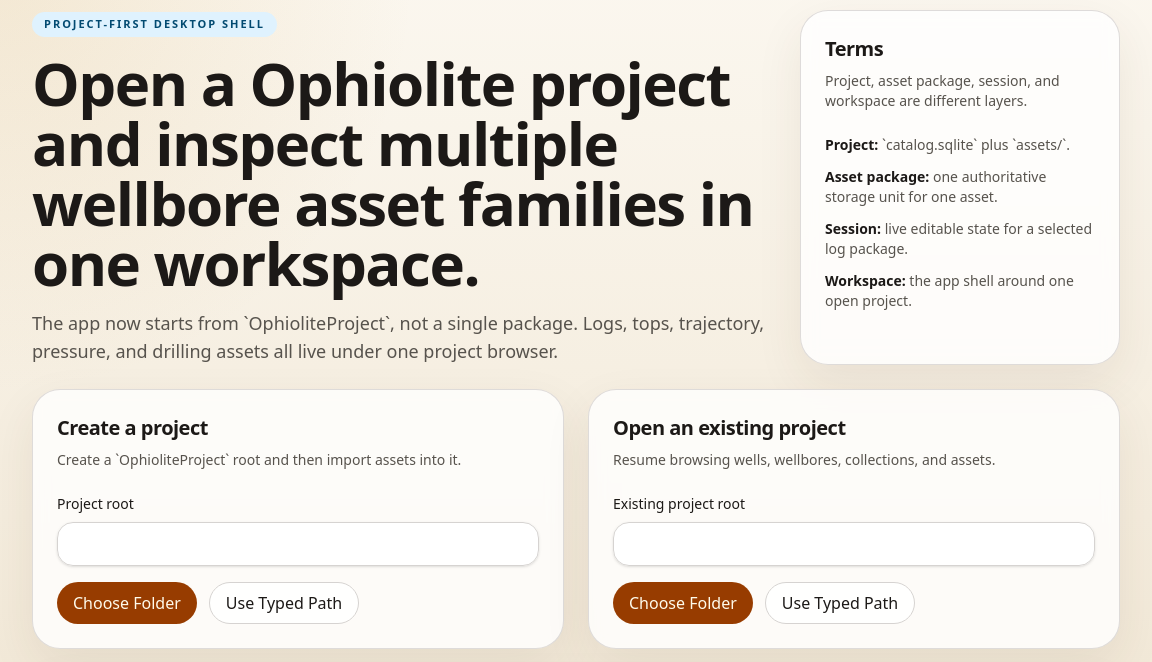
Test case: ophiolite project harness › runs a depth coverage query and opens a selected asset
Click the button with test id "open-project-button" at (683, 602), box x1=613 y1=582 x2=753 y2=624
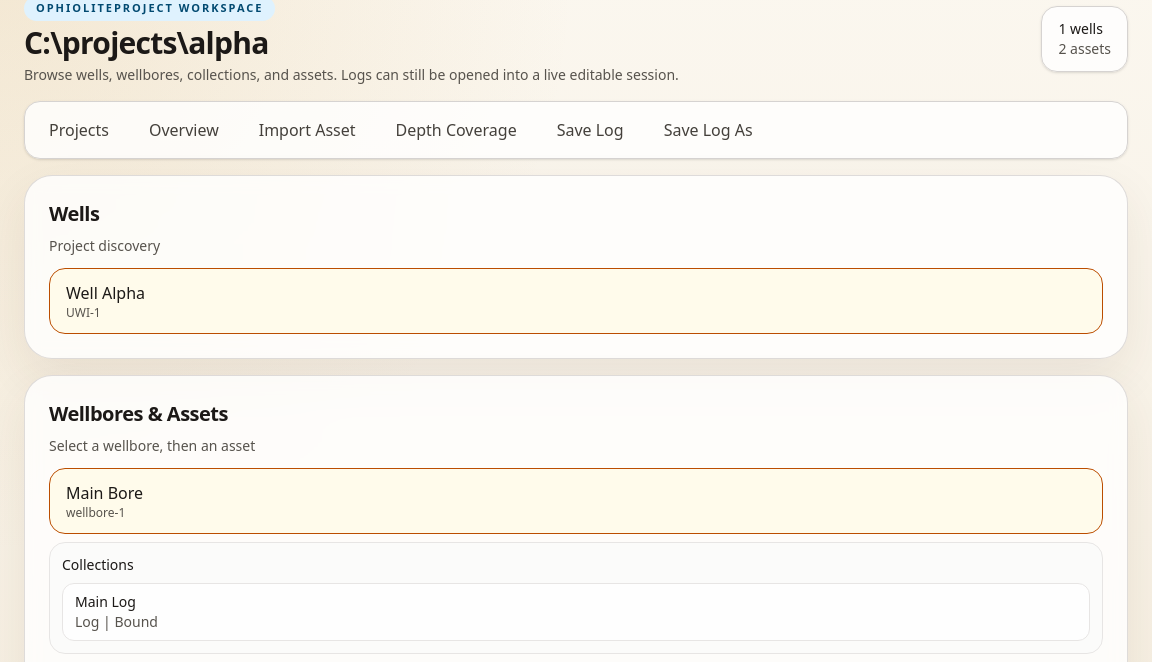
Expected: the text "Well Alpha" is shown, x1=66 y1=282 x2=145 y2=304
Click the button "Depth Coverage" at (456, 130), box x1=380 y1=110 x2=533 y2=150
(page scrolled)
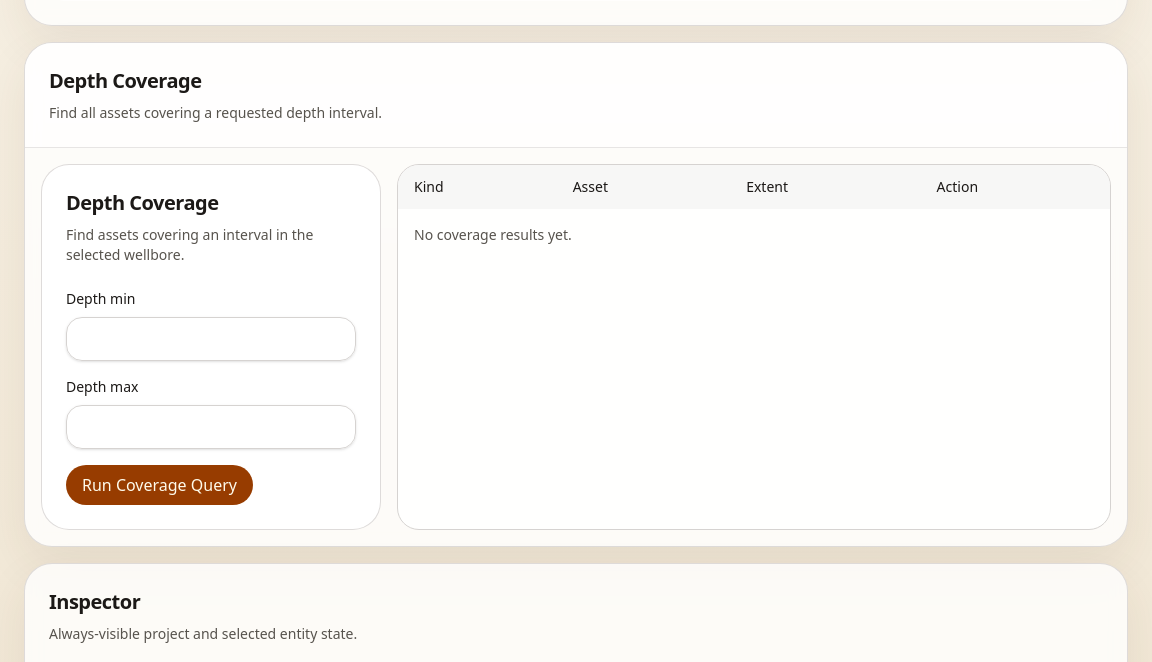
Type "1000" into the field named "coverage depth min" at (211, 338), box x1=66 y1=316 x2=356 y2=360
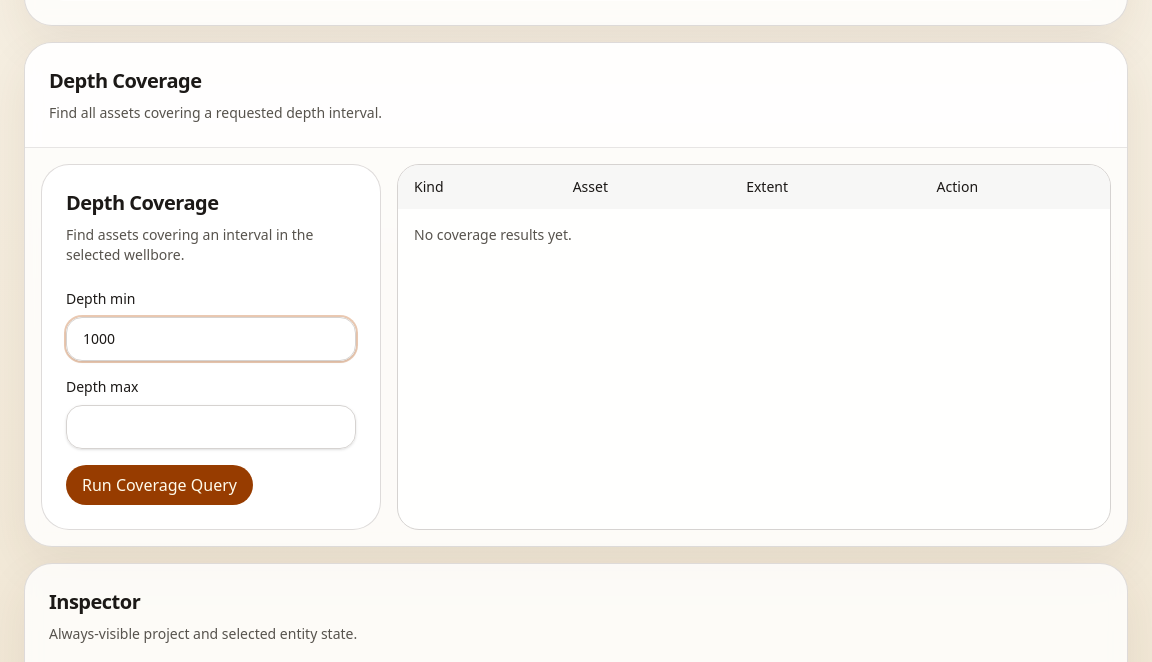
Type "1100" into the field named "coverage depth max" at (211, 426), box x1=66 y1=404 x2=356 y2=448
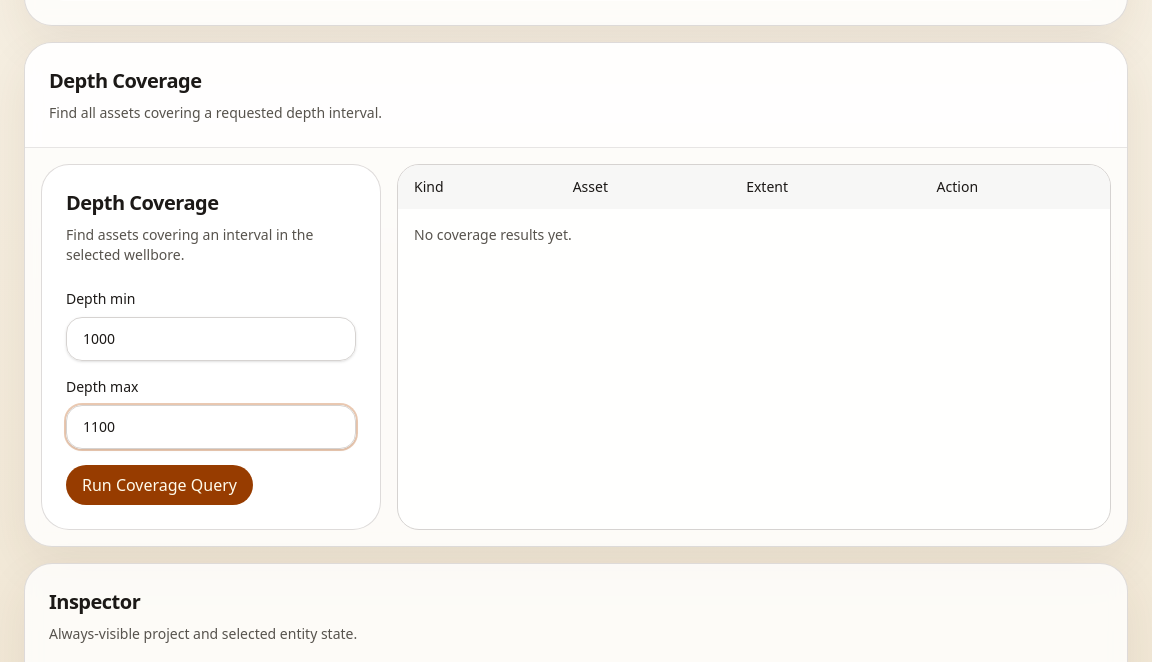
Click the button with test id "run-coverage-button" at (160, 484), box x1=66 y1=464 x2=253 y2=504
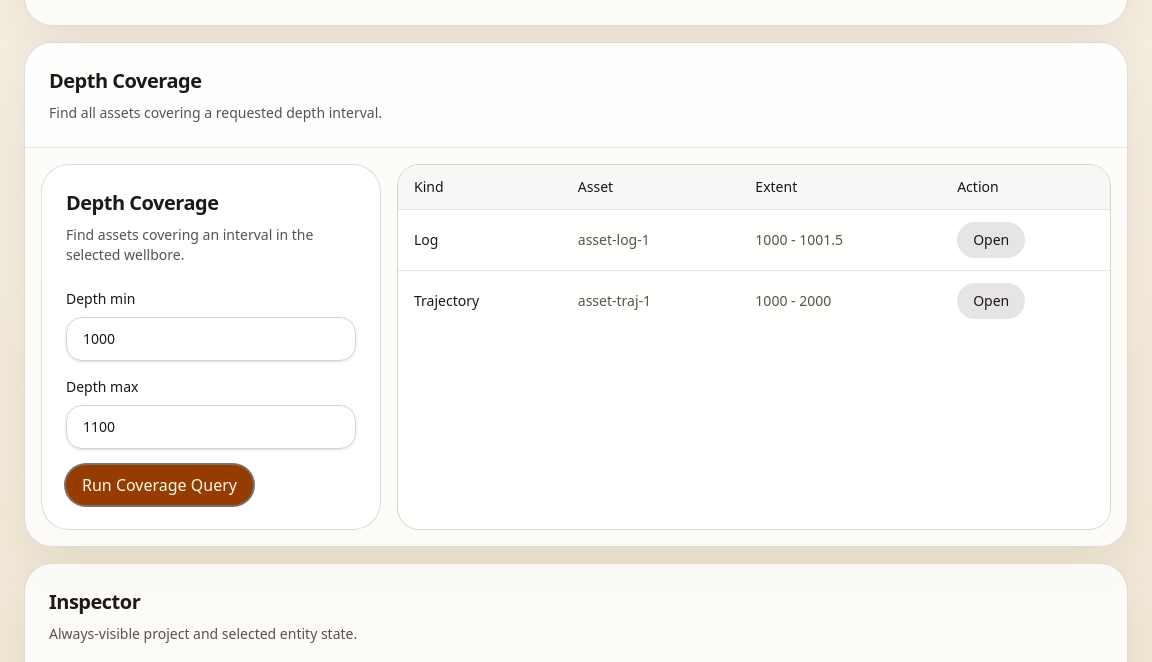
Expected: the text "asset-log-1" is shown, x1=562 y1=209 x2=739 y2=270
